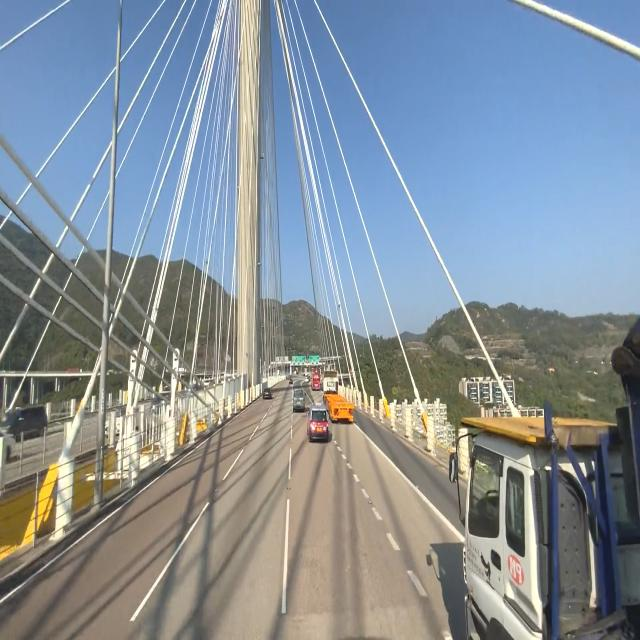Vehicle: (323, 364, 356, 428), (308, 401, 330, 447), (291, 384, 306, 413)
